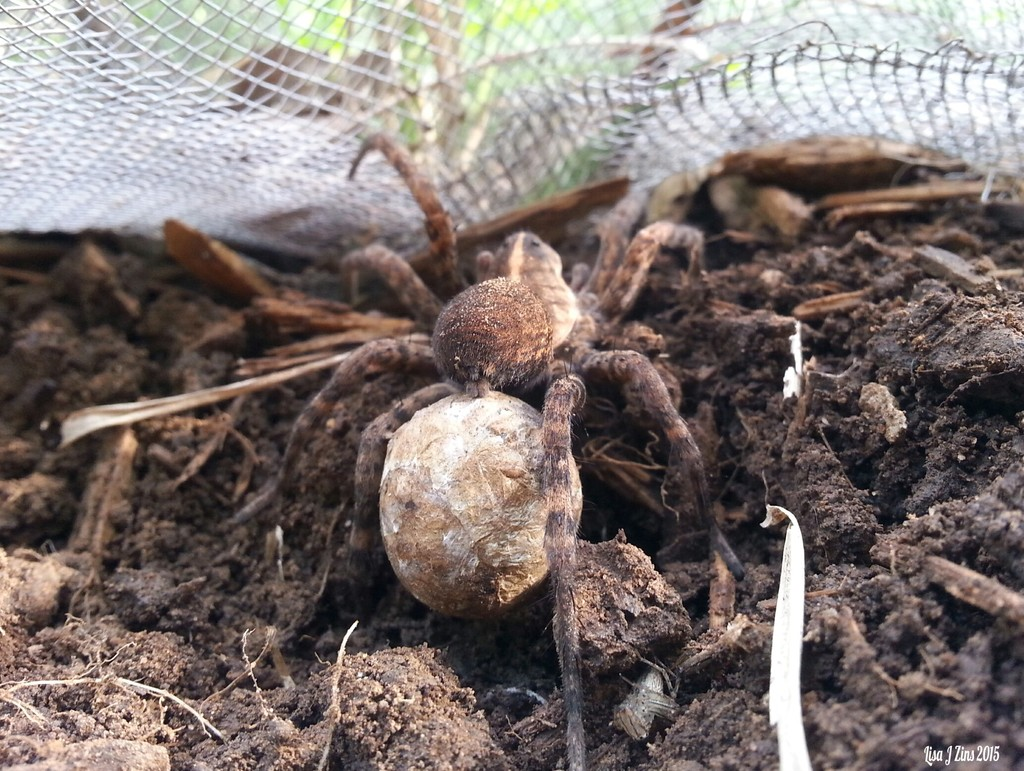Animal: (222, 135, 748, 769)
